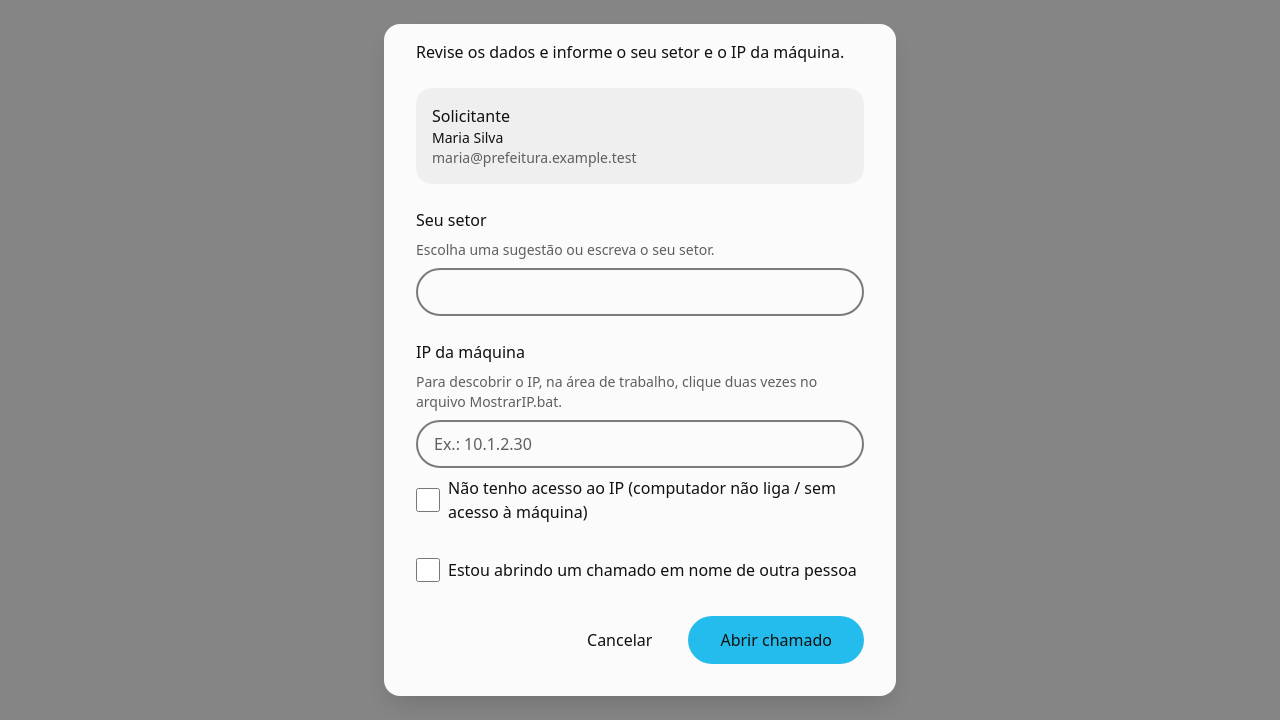
Test: formulário › campos obrigatórios vazios: erro junto do campo, ligado por aria-describedby, sem chamar a API
(page scrolled)
Click the button "Abrir chamado": (776, 640) x1=688 y1=616 x2=864 y2=664
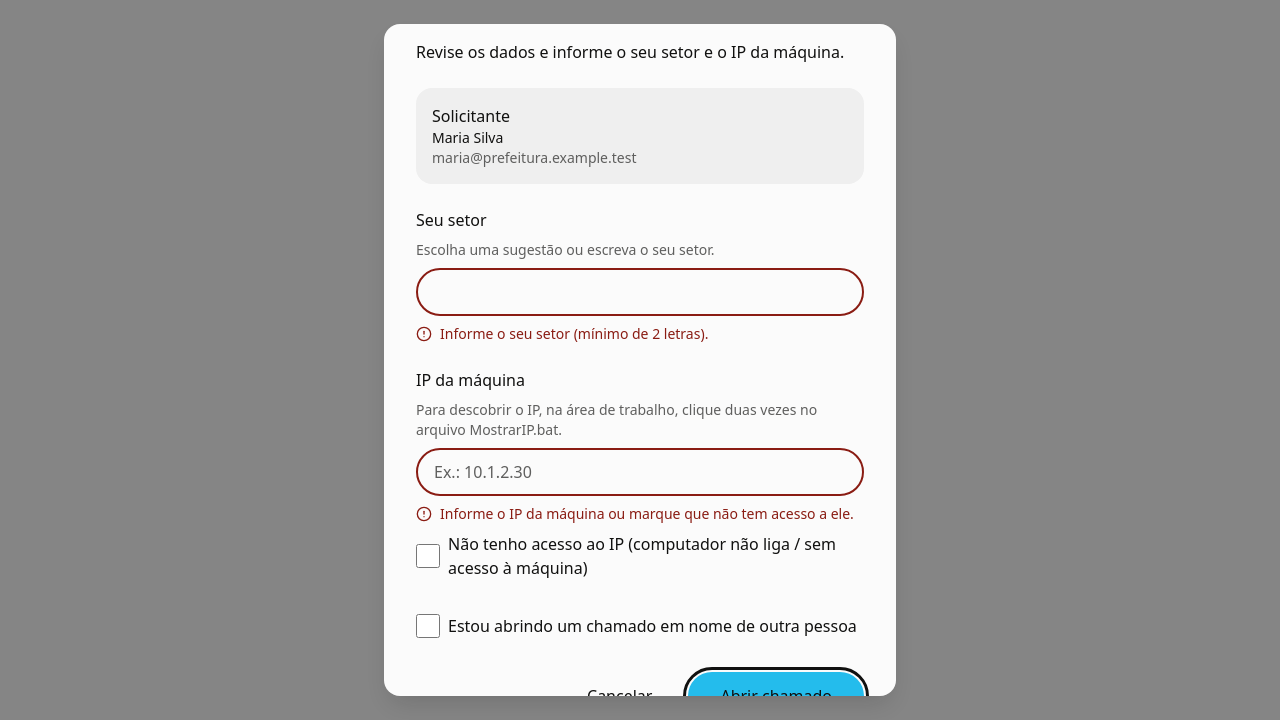
Expected: the text "Informe o seu setor (mínimo de 2 letras)." is shown, x1=440 y1=324 x2=708 y2=344
Expected: the text "Informe o IP da máquina ou marque que não tem acesso a ele." is shown, x1=440 y1=504 x2=854 y2=524
